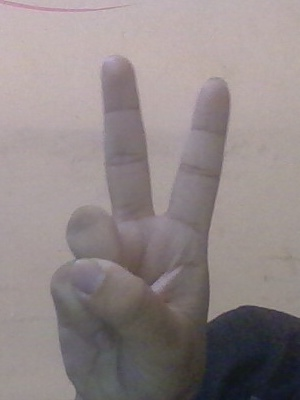V: (46, 51, 233, 400)
